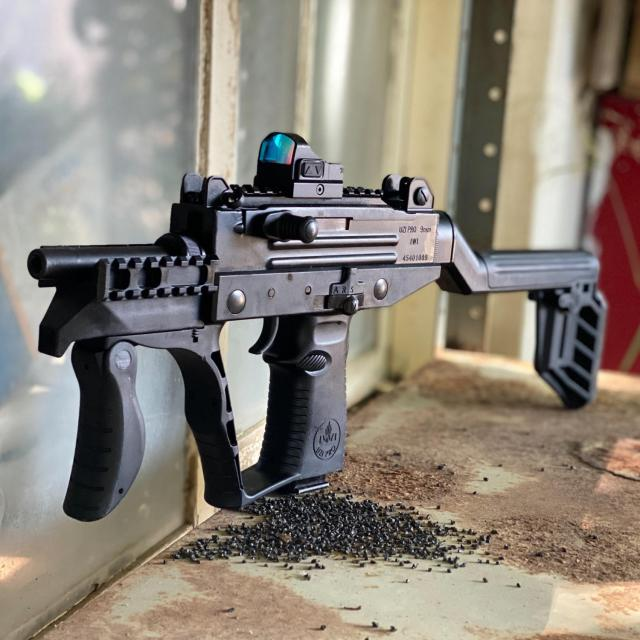SMG: (27, 133, 606, 525)
